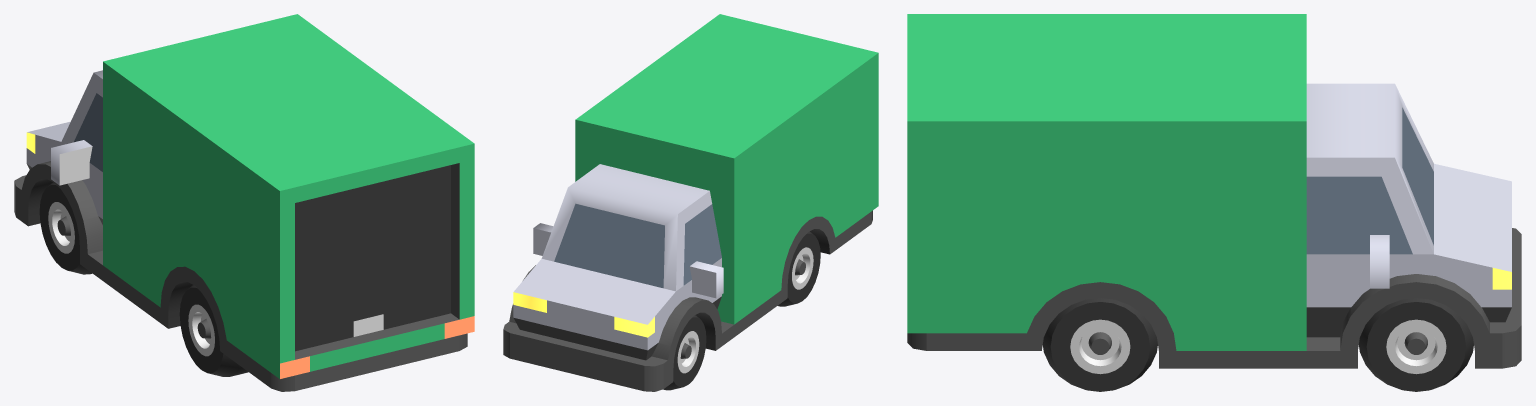
File: delivery.glb
3 views of the same model, side by side, from view 1: azimuth 30°, elevation 25°; view 2: azimuth 150°, elevation 25°; view 3: azimuth 270°, elevation 25° (orthographic). The views are drawn at different scales.
Visible parts, largest first — view 1: body, door, wheel_backLeft, wheel_frontLeft; view 2: body, wheel_backLeft, wheel_frontLeft; view 3: body, wheel_backRight, wheel_frontRight.
Part boxes in pixels (<box>): body: <box>14,14,474,391</box>; door: <box>295,165,450,351</box>; wheel_backLeft: <box>179,285,248,376</box>; wheel_frontLeft: <box>39,182,92,274</box>; body: <box>503,14,878,391</box>; wheel_backLeft: <box>777,231,820,306</box>; wheel_frontLeft: <box>663,315,706,390</box>; body: <box>907,14,1521,368</box>; wheel_backRight: <box>1042,298,1157,391</box>; wheel_frontRight: <box>1359,298,1473,391</box>.
Size of the model in its own units: 1.5 by 1.6 by 3.15.
